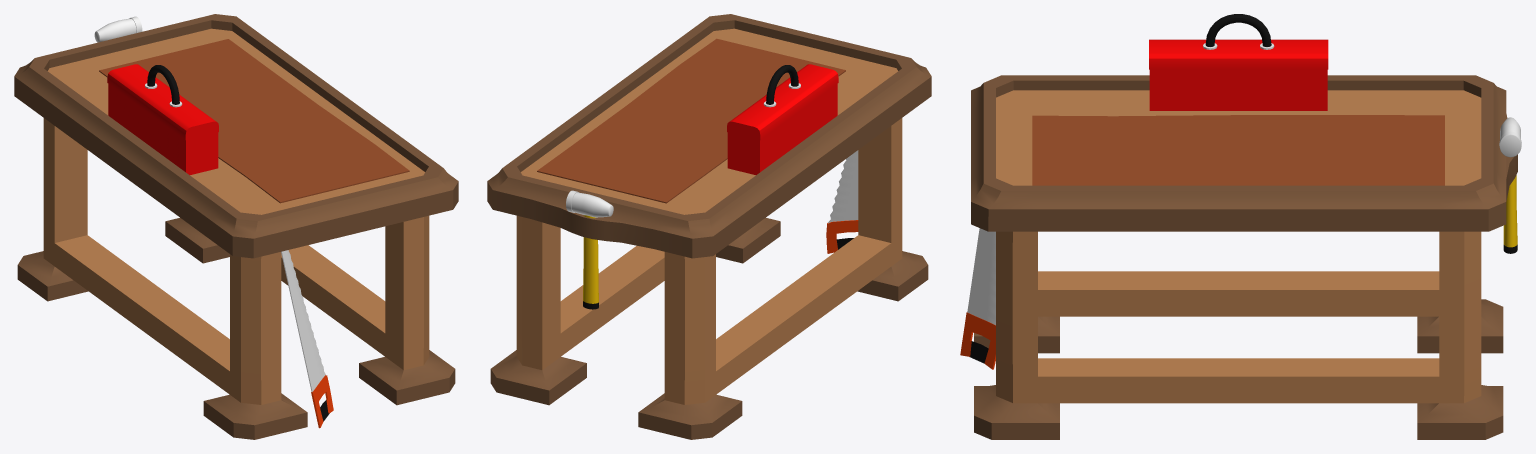
File: workbench_crafting.fbx
The picture shows the model from 3 angles, left to right: view 1: azimuth 30°, elevation 25°; view 2: azimuth 150°, elevation 25°; view 3: azimuth 270°, elevation 25°; orthographic projection. The views are drawn at different scales.
Visible parts, largest first — view 1: workbench_crafting, leather, toolbox, handsaw, hammer; view 2: workbench_crafting, leather, toolbox, handsaw, hammer; view 3: workbench_crafting, leather, toolbox, handsaw, hammer.
Part boxes in pixels (x1,y1,x2,y2): workbench_crafting: [14, 14, 458, 439]; leather: [99, 39, 409, 203]; toolbox: [107, 64, 218, 174]; handsaw: [281, 250, 333, 428]; hammer: [94, 16, 142, 42]; workbench_crafting: [487, 14, 931, 439]; leather: [537, 38, 845, 203]; toolbox: [727, 64, 838, 174]; handsaw: [826, 150, 858, 253]; hammer: [566, 190, 613, 309]; workbench_crafting: [971, 75, 1517, 439]; leather: [1032, 115, 1444, 185]; toolbox: [1149, 14, 1328, 110]; handsaw: [960, 228, 995, 369]; hammer: [1499, 117, 1521, 253].
Size of the model in its own units: 210 by 251 by 395.
